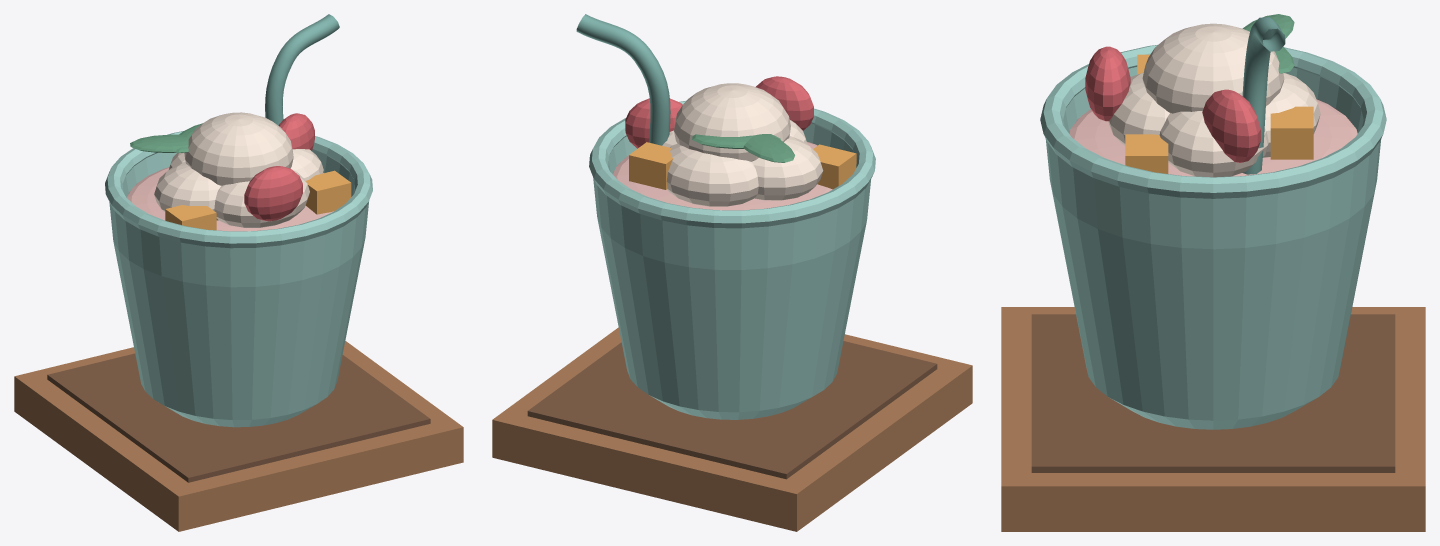
Rendered from fruit_ice.glb.
The picture shows the model from 3 angles, left to right: view 1: azimuth 30°, elevation 25°; view 2: azimuth 150°, elevation 25°; view 3: azimuth 270°, elevation 25°; orthographic projection. The views are drawn at different scales.
Parts seen in each view (by area): view 1: smoothie_cup_frosted_wall, smoothie_coaster_body, smoothie_coaster_inset, smoothie_cup_lip, yogurt_peak, strawberry_wedge_0, curved_straw, yogurt_swirl_lobe_2, yogurt_swirl_lobe_3, smoothie_top_surface, mango_topping_1, mango_topping_0 (+3 smaller); view 2: smoothie_cup_frosted_wall, smoothie_coaster_body, smoothie_coaster_inset, smoothie_cup_lip, yogurt_peak, yogurt_swirl_lobe_1, curved_straw, yogurt_swirl_lobe_2, smoothie_top_surface, mango_topping_2, strawberry_wedge_0, mango_topping_0 (+3 smaller); view 3: smoothie_cup_frosted_wall, smoothie_coaster_body, smoothie_coaster_inset, smoothie_cup_lip, yogurt_peak, smoothie_top_surface, yogurt_swirl_lobe_0, strawberry_wedge_1, curved_straw, strawberry_wedge_0, yogurt_swirl_lobe_3, mango_topping_2 (+2 smaller).
Boxes of the visible parts, x1=… form: smoothie_cup_frosted_wall: x1=109, y1=150, x2=368, y2=427; smoothie_coaster_body: x1=14, y1=341, x2=463, y2=531; smoothie_coaster_inset: x1=47, y1=353, x2=430, y2=482; smoothie_cup_lip: x1=105, y1=131, x2=372, y2=248; yogurt_peak: x1=184, y1=112, x2=293, y2=185; strawberry_wedge_0: x1=244, y1=166, x2=302, y2=221; curved_straw: x1=265, y1=14, x2=339, y2=125; yogurt_swirl_lobe_2: x1=154, y1=161, x2=220, y2=220; yogurt_swirl_lobe_3: x1=214, y1=170, x2=309, y2=227; smoothie_top_surface: x1=126, y1=167, x2=333, y2=231; mango_topping_1: x1=305, y1=170, x2=351, y2=214; mango_topping_0: x1=165, y1=205, x2=216, y2=230; smoothie_cup_frosted_wall: x1=593, y1=123, x2=870, y2=419; smoothie_coaster_body: x1=492, y1=327, x2=972, y2=531; smoothie_coaster_inset: x1=527, y1=341, x2=937, y2=479; smoothie_cup_lip: x1=589, y1=100, x2=875, y2=228; yogurt_peak: x1=674, y1=83, x2=790, y2=161; yogurt_swirl_lobe_1: x1=666, y1=143, x2=758, y2=206; curved_straw: x1=576, y1=14, x2=670, y2=145; yogurt_swirl_lobe_2: x1=751, y1=136, x2=823, y2=200; smoothie_top_surface: x1=613, y1=142, x2=832, y2=210; mango_topping_2: x1=629, y1=142, x2=673, y2=189; strawberry_wedge_0: x1=756, y1=76, x2=813, y2=130; mango_topping_0: x1=813, y1=144, x2=856, y2=189; smoothie_cup_frosted_wall: x1=1045, y1=67, x2=1381, y2=429; smoothie_coaster_body: x1=1001, y1=307, x2=1425, y2=531; smoothie_coaster_inset: x1=1031, y1=314, x2=1395, y2=472; smoothie_cup_lip: x1=1040, y1=45, x2=1386, y2=198; yogurt_peak: x1=1142, y1=23, x2=1284, y2=113; smoothie_top_surface: x1=1069, y1=99, x2=1357, y2=176; yogurt_swirl_lobe_0: x1=1159, y1=111, x2=1268, y2=177; strawberry_wedge_1: x1=1202, y1=89, x2=1260, y2=162; curved_straw: x1=1242, y1=17, x2=1285, y2=174; strawberry_wedge_0: x1=1085, y1=46, x2=1130, y2=121; yogurt_swirl_lobe_3: x1=1108, y1=72, x2=1169, y2=145; mango_topping_2: x1=1270, y1=106, x2=1313, y2=159.
Size of the model in its own units: 0.7 by 0.8848 by 0.7.
